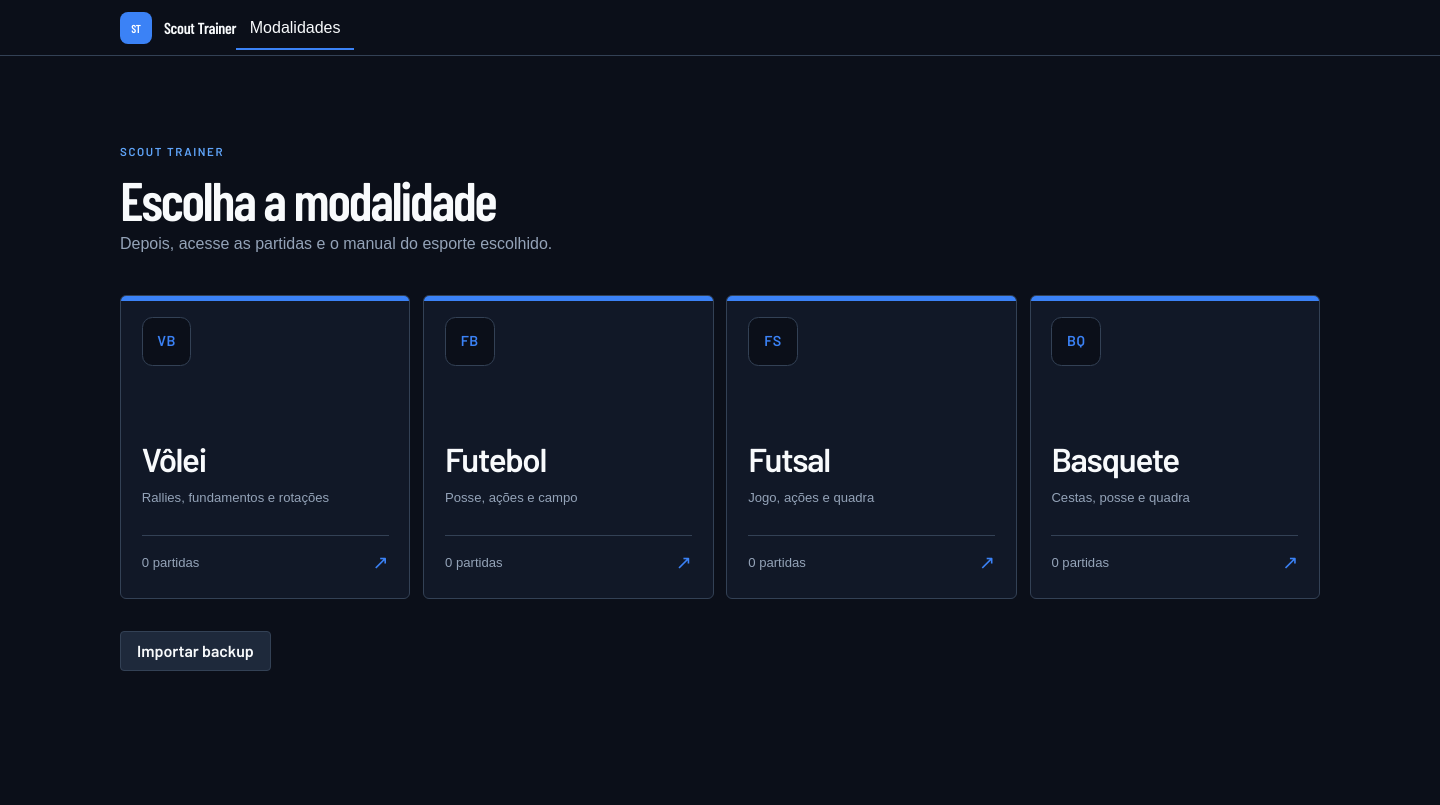
Test: sport-first navigation › shows the sport picker, scopes matches, and opens the selected manual and setup
Expected: the heading "Escolha a modalidade" is shown, [120,171,552,228]
Expected: the button with aria-label "Basquete: abrir partidas e manual" is enabled, [1030,295,1320,599]
Click the button with aria-label "Futebol: abrir partidas e manual". click: (470, 341)
box: [423,295,714,599]
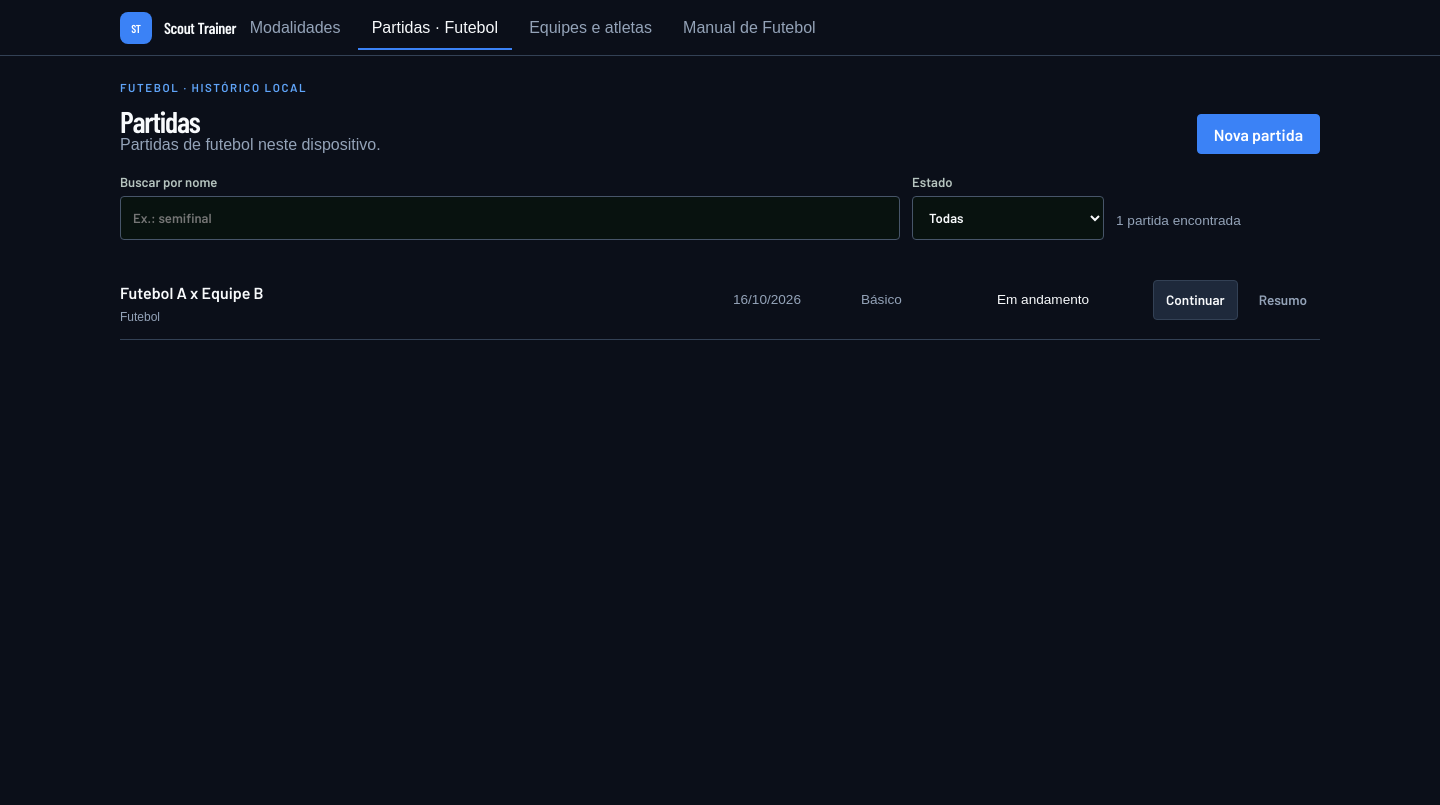
Now the button "Futebol A x Equipe B" is shown, box [120,275,264,310]
Click the button "Manual de Futebol". click: (749, 28)
box: [670,6,829,50]
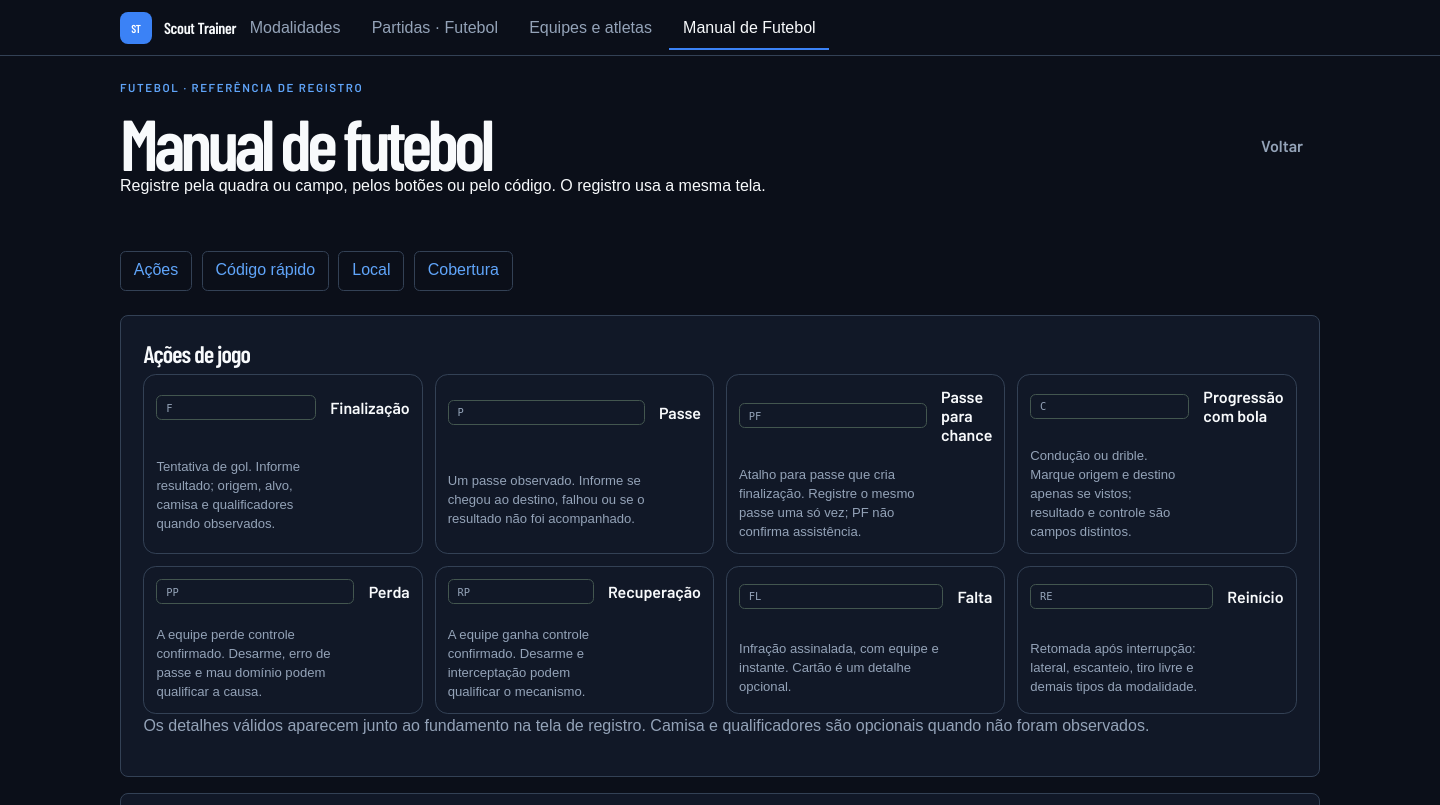
Now the heading "Manual de futebol" is shown, box [120,99,490,185]
Now the text "Progressão com bola" is shown, box [1203,387,1284,425]
Click the button "Voltar". click: (1282, 146)
box: [1244,126,1320,166]
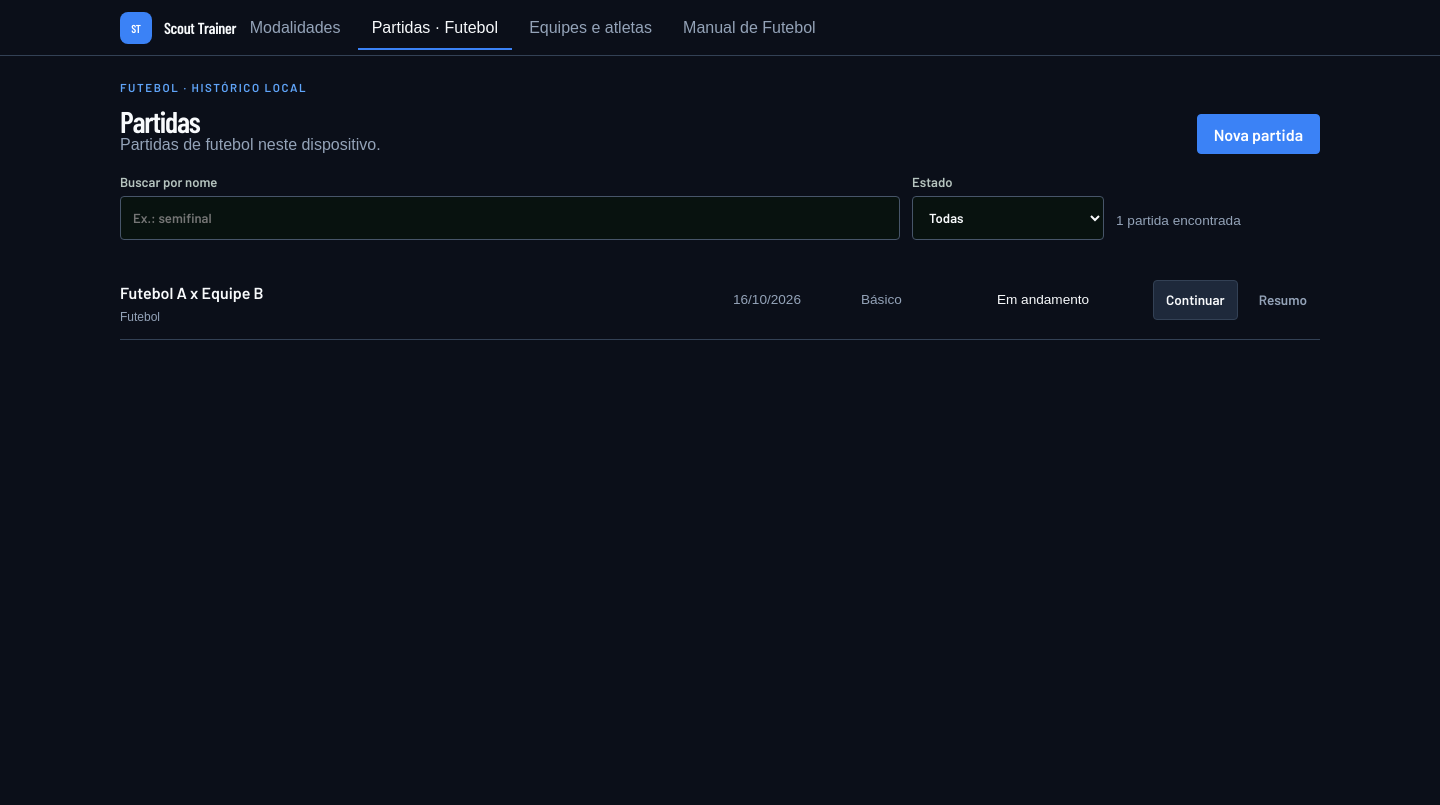
Now the heading "Partidas" is shown, box [120,103,200,139]
Click the button "Nova partida". click: (1258, 134)
box: [1197,114,1320,154]
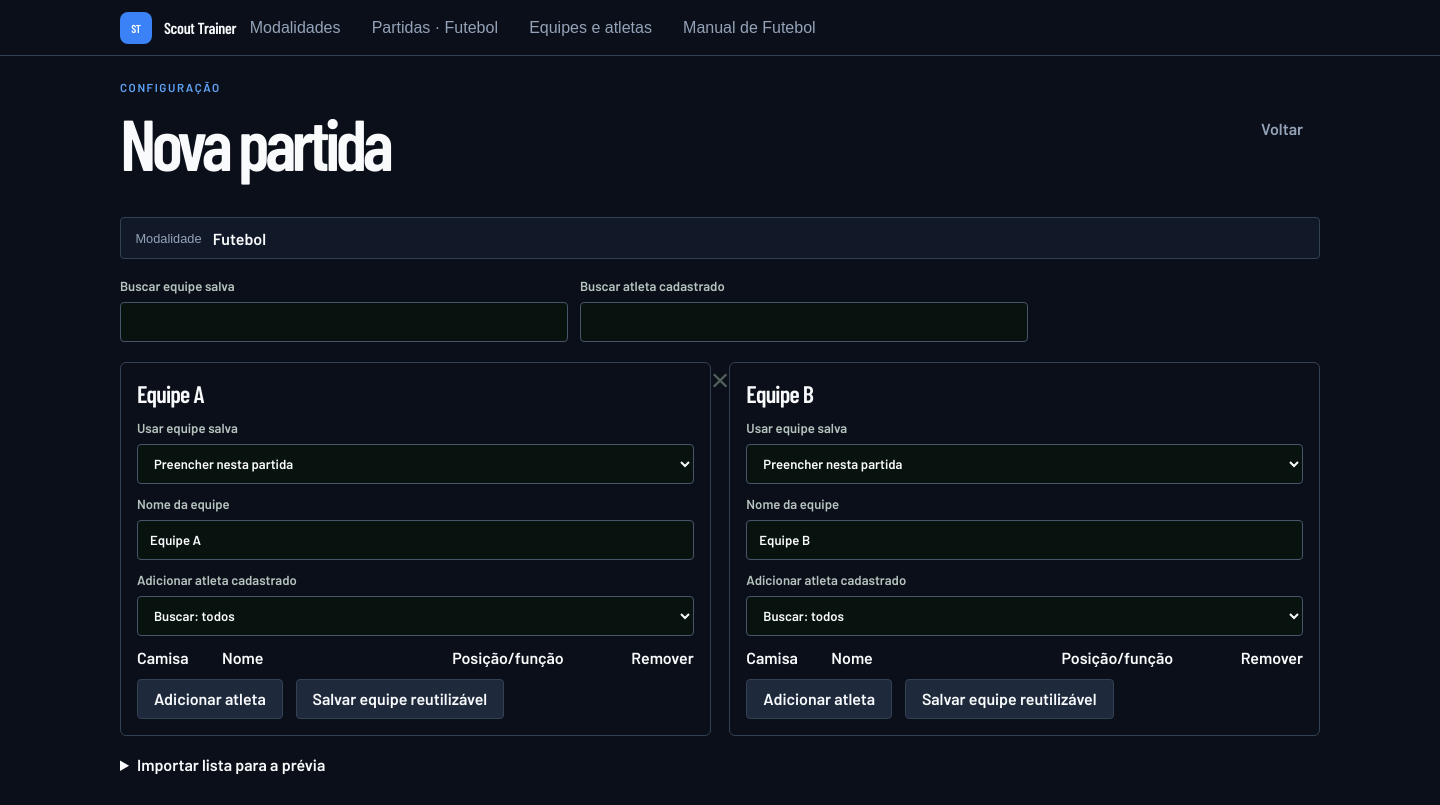
Now the heading "Nova partida" is shown, box [120,107,389,177]
Click the button "Voltar". click: (1282, 129)
box: [1244,109,1320,149]
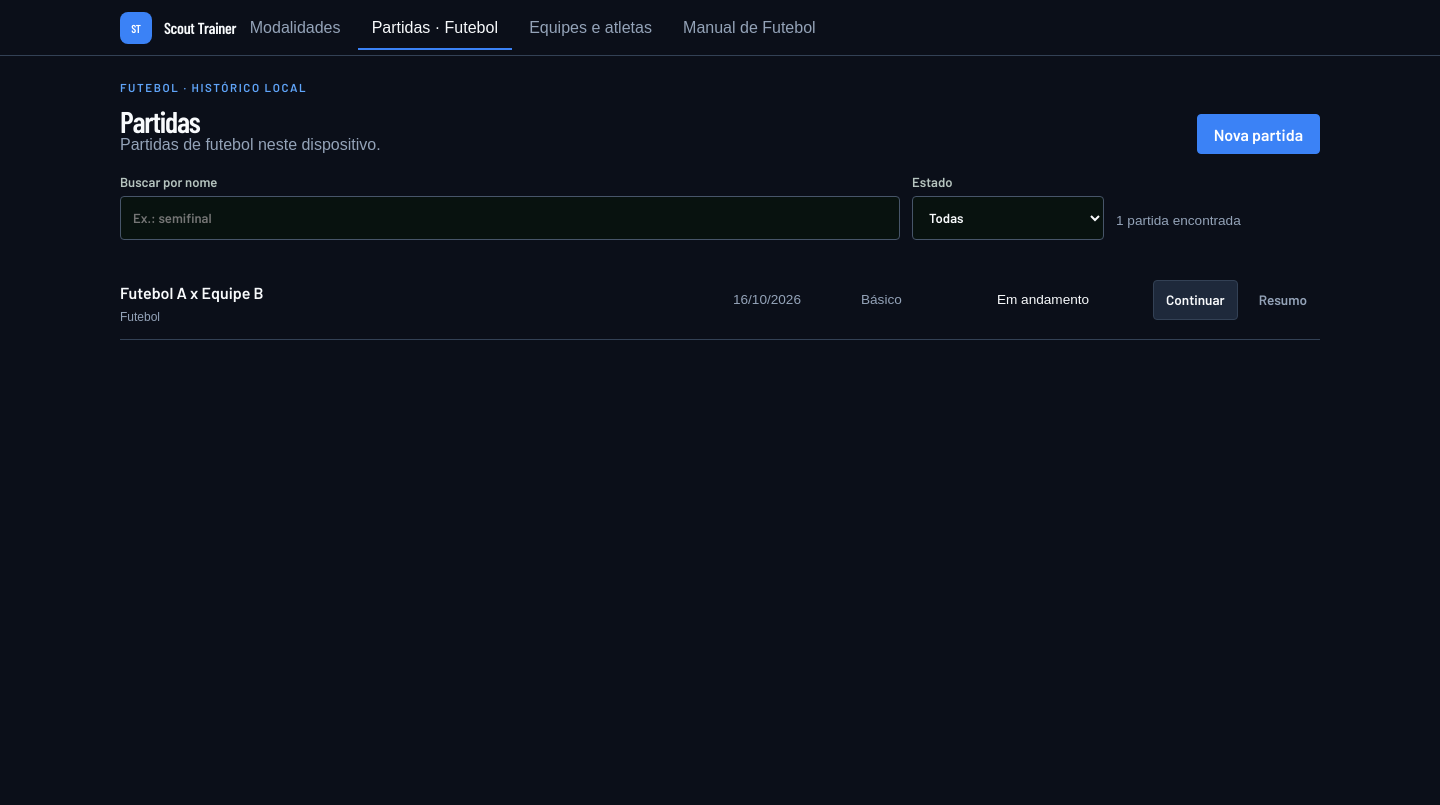
Now the heading "Partidas" is shown, box [120,103,200,139]
Click the button "Modalidades". click: (295, 28)
box: [236,6,354,50]
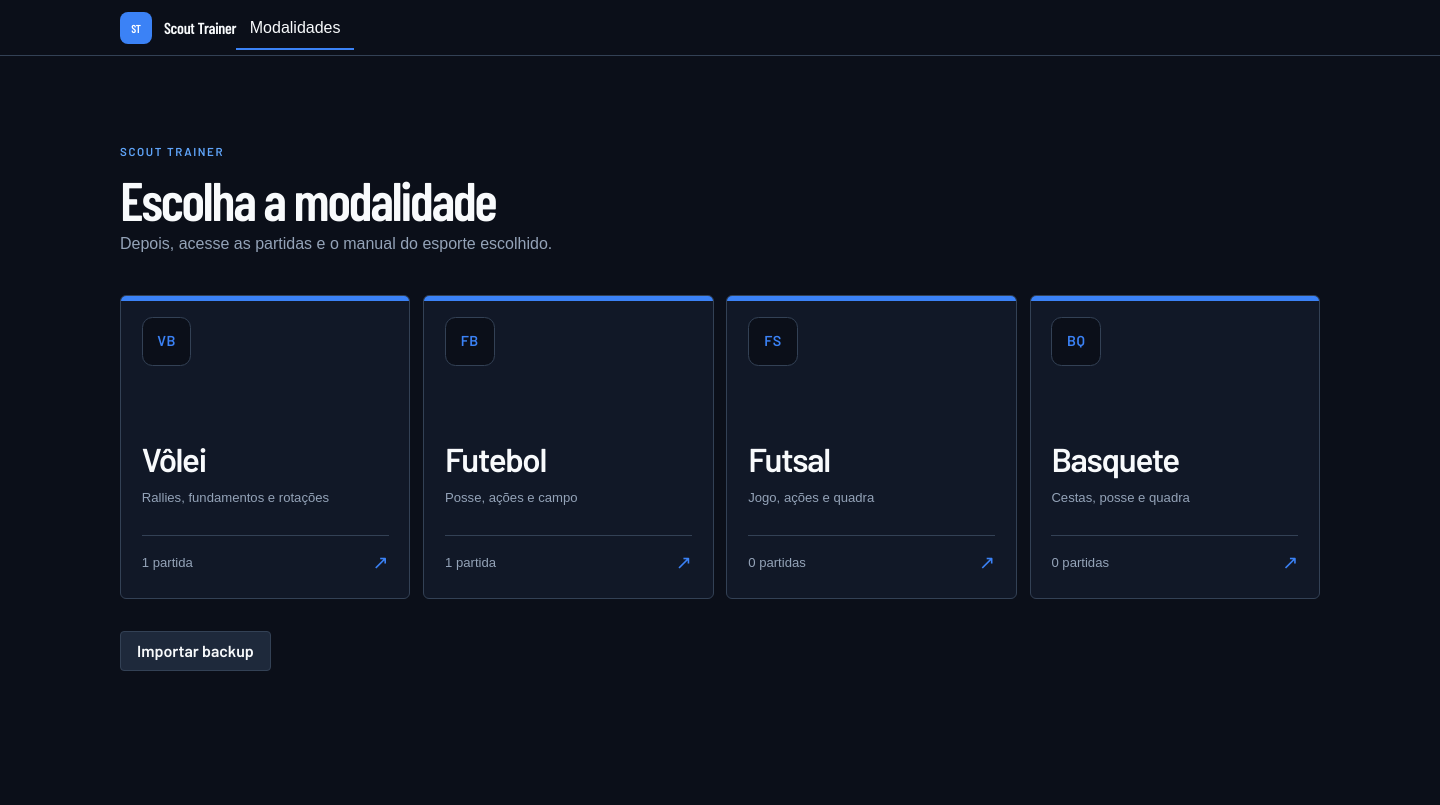
Now the heading "Escolha a modalidade" is shown, box [120,171,552,228]
